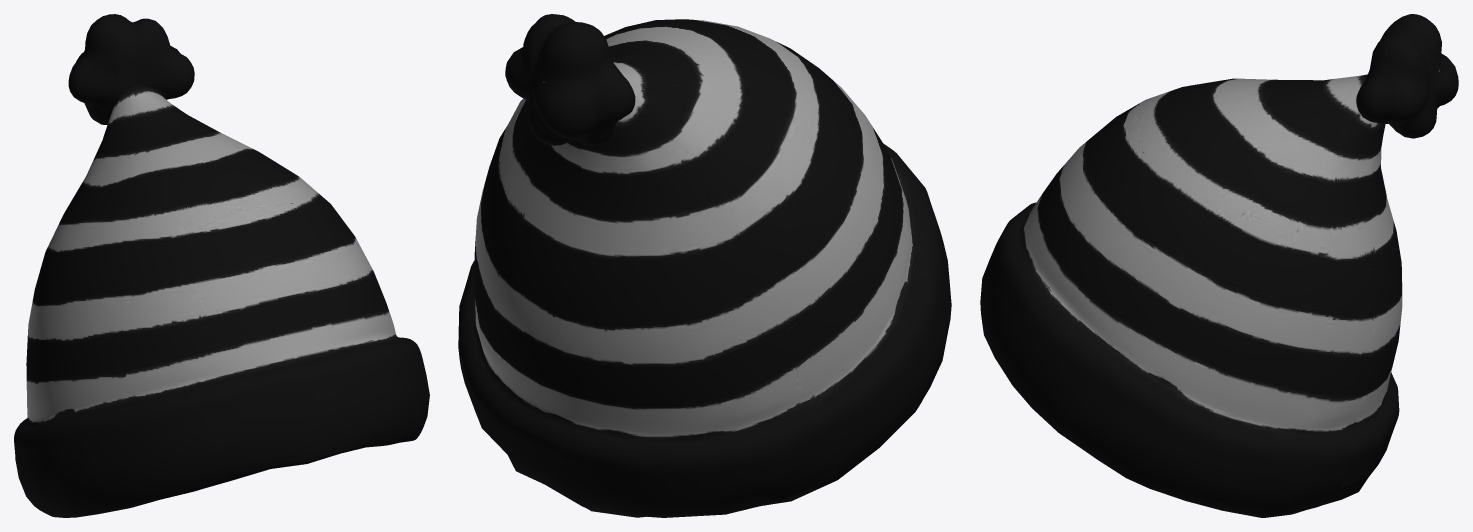
File: Beanie-Stealth.glb
The picture shows the model from 3 angles, left to right: view 1: azimuth 30°, elevation 25°; view 2: azimuth 150°, elevation 25°; view 3: azimuth 270°, elevation 25°; orthographic projection. The views are drawn at different scales.
Parts seen in each view (by area): view 1: Beanie-Stealth; view 2: Beanie-Stealth; view 3: Beanie-Stealth.
Boxes of the visible parts, <box> form: Beanie-Stealth: <box>14,14,429,517</box>; Beanie-Stealth: <box>458,14,951,517</box>; Beanie-Stealth: <box>980,14,1458,517</box>.
Size of the model in its own units: 0.5017 by 0.5689 by 0.54.
Materials: 1 (1 with a texture image).
